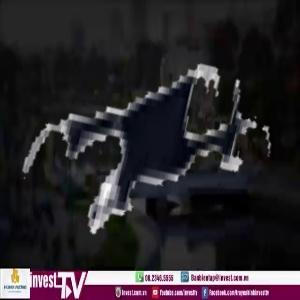drone: (15, 10, 299, 294)
